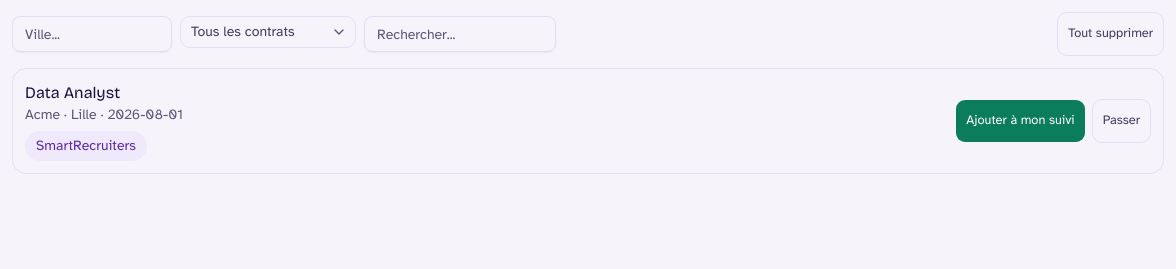
it: ReviewQueueManager — cohérence visuelle des filtres › shows the selected contract type's own label after choosing one
The width and height of the screenshot is (1176, 269).
Click the dropdown named "Filtrer par type de contrat" at [268, 32], box [180, 16, 356, 48]
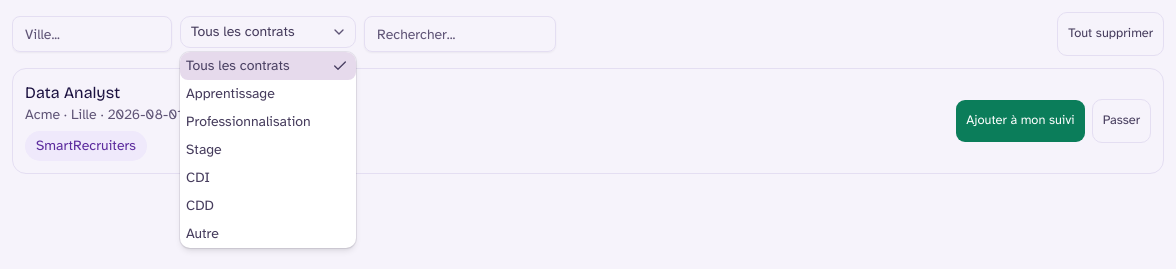
Click the option "Stage" at [204, 150], box [186, 141, 222, 158]
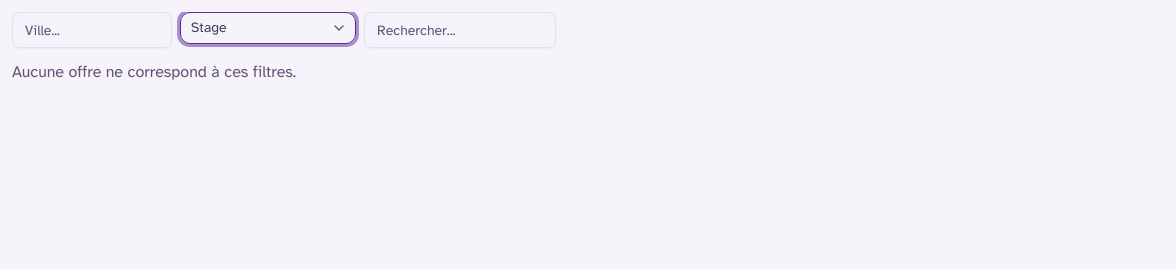
Result: the dropdown named "Filtrer par type de contrat" shows "Stage" at [180, 12, 356, 44]
